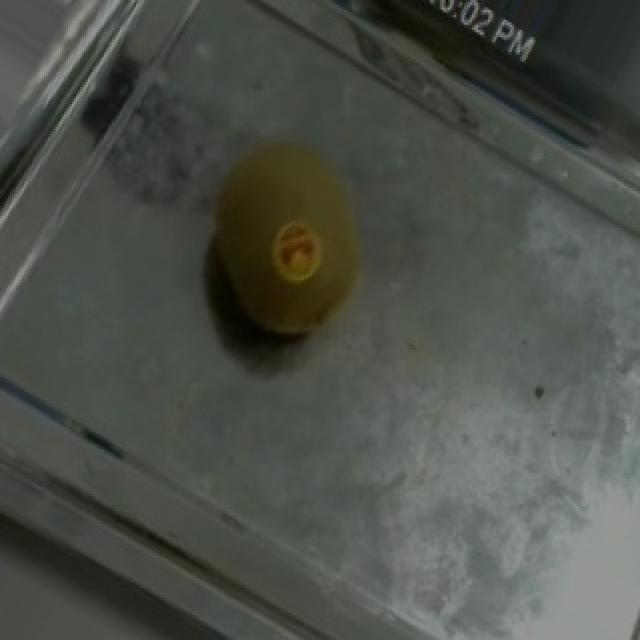Fruit: (160, 97, 414, 382)
